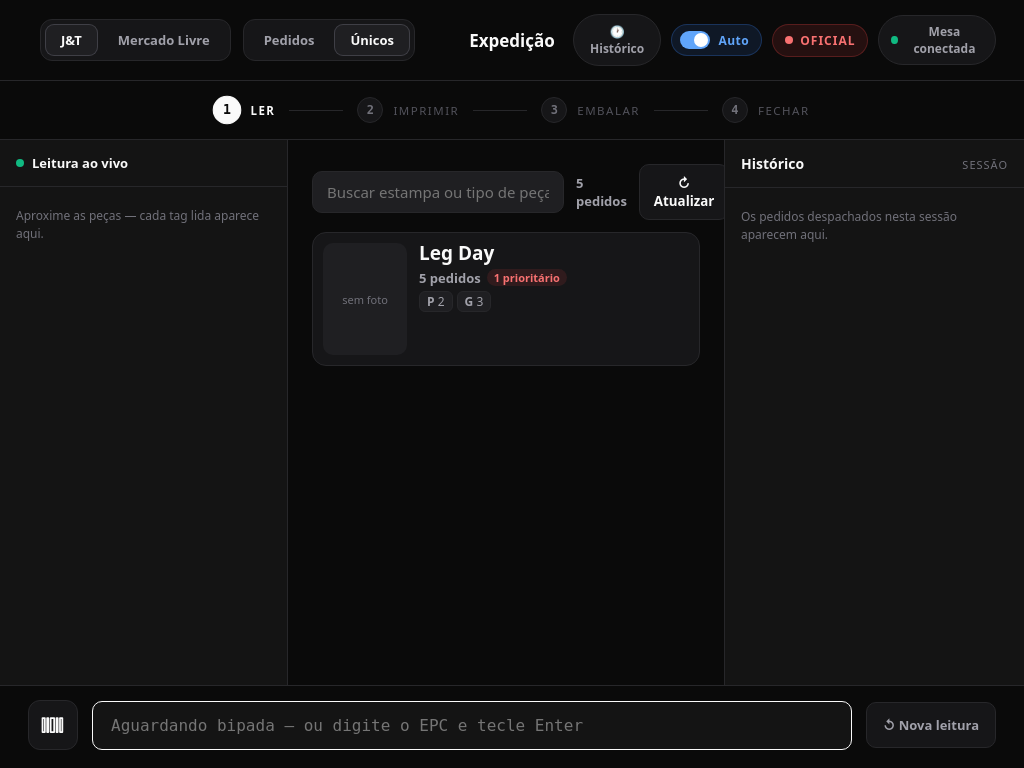
Scenario: Expedição — modo Únicos › estampa com dois tamanhos: o card abre o painel, Voltar fecha e o botão escolhe o tamanho
The image size is (1024, 768).
Click the button titled "Abrir Leg Day" at (365, 299), box [312,232,700,366]
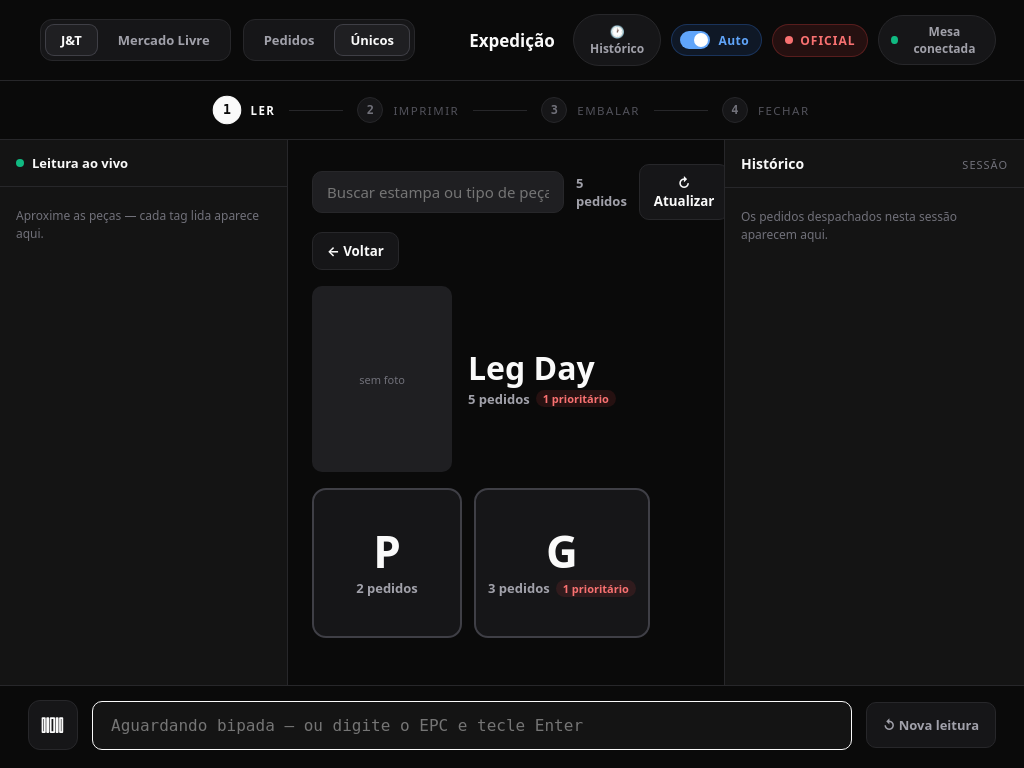
Now the button titled "Escolher a fila Leg Day P" is shown, box [312,488,462,638]
Now the button titled "Escolher a fila Leg Day G" is shown, box [474,488,650,638]
Click the button "← Voltar" at (355, 251), box [312,232,399,270]
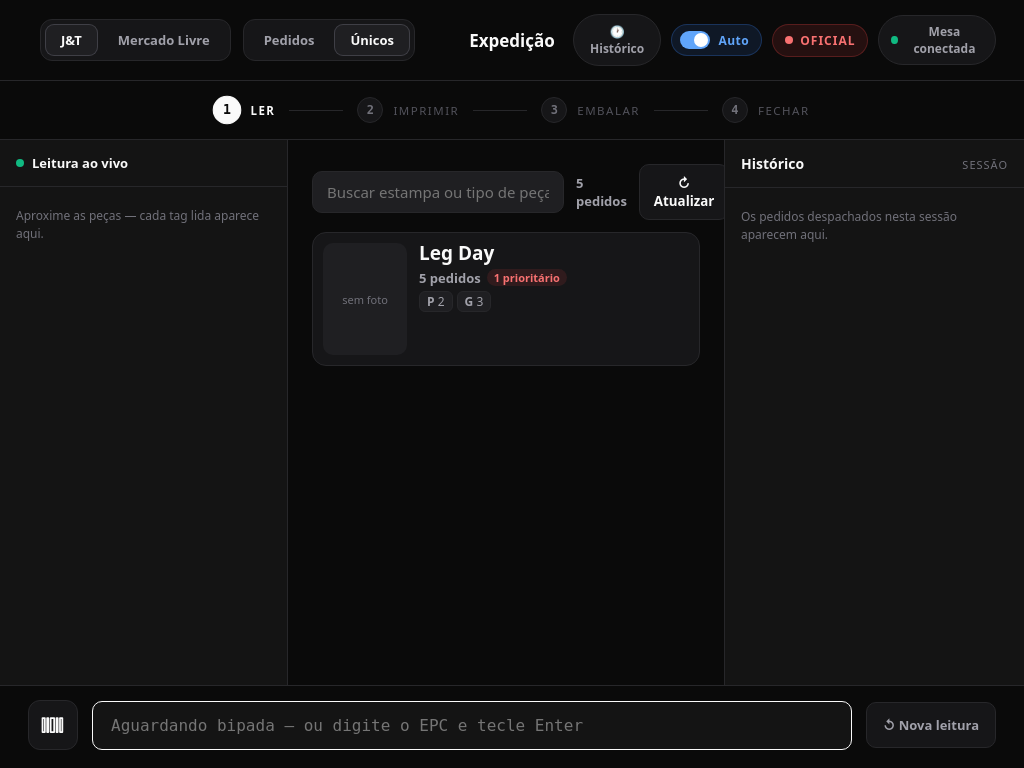
Now the button titled "Abrir Leg Day" is shown
Click the button titled "Abrir Leg Day" at (365, 299), box [312,232,700,366]
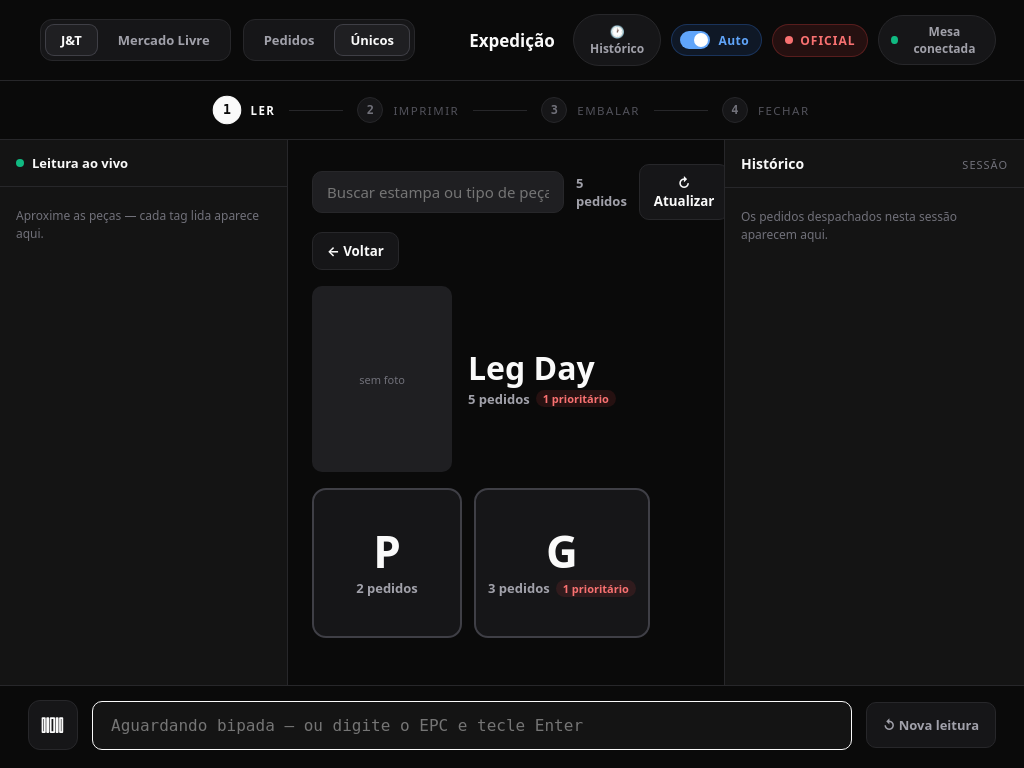
Click the button titled "Escolher a fila Leg Day P" at (387, 563), box [312,488,462,638]
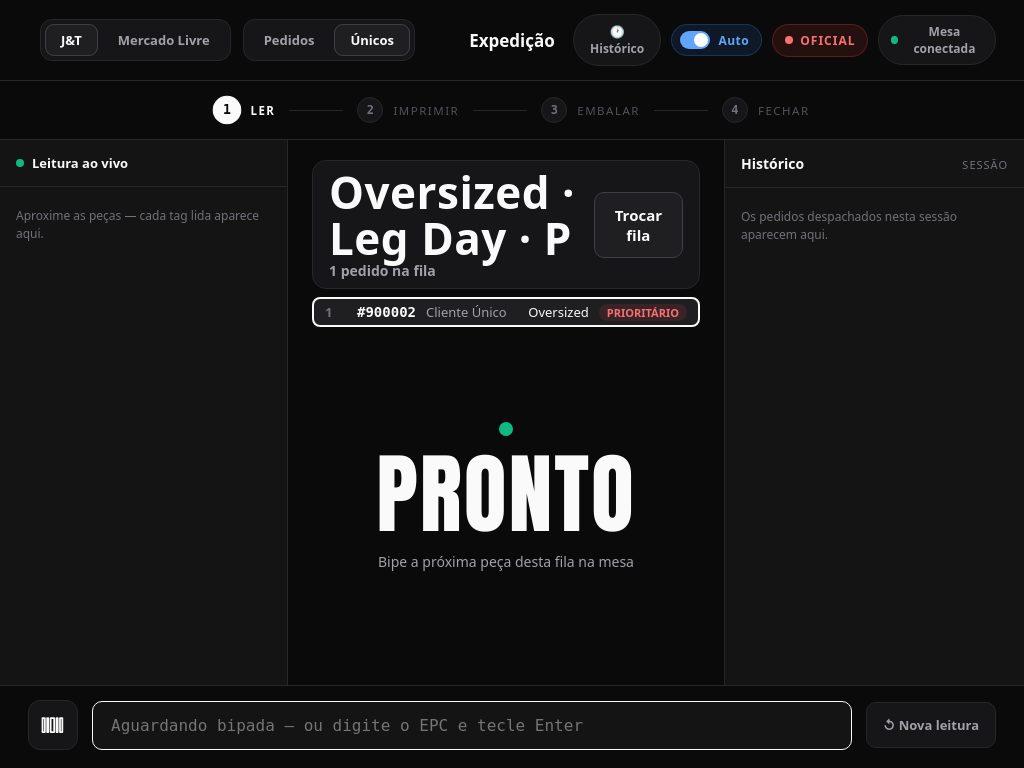
Now the text "Leg Day · P" is shown, box [329,162,575,268]
